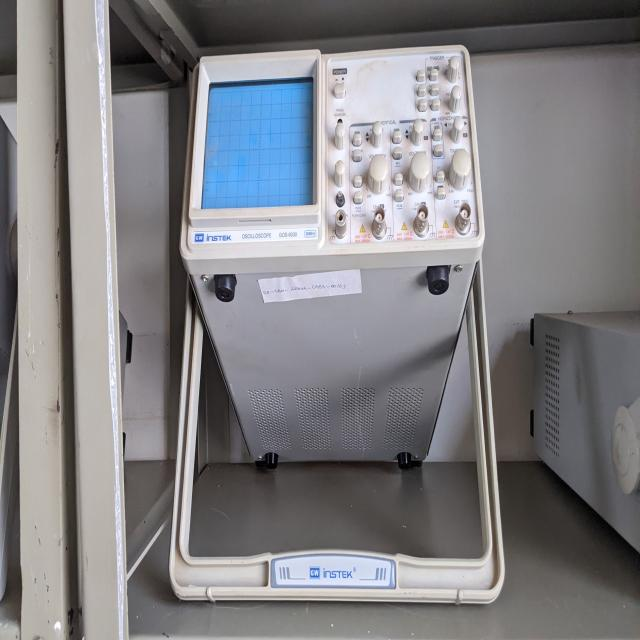Cathode Ray Oscilloscope: (172, 30, 501, 619)
